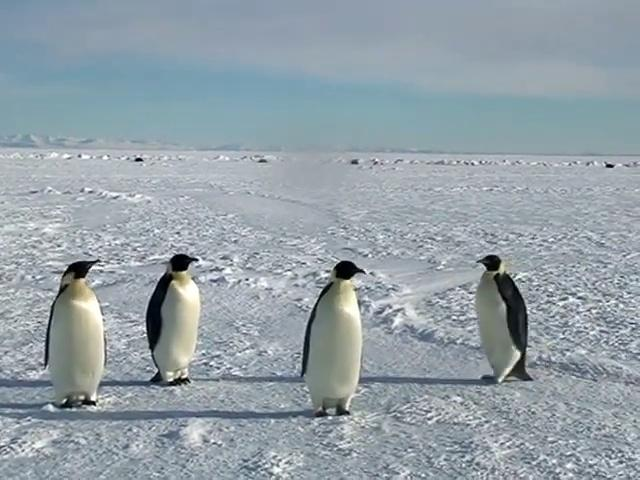animal: (302, 262, 366, 417)
